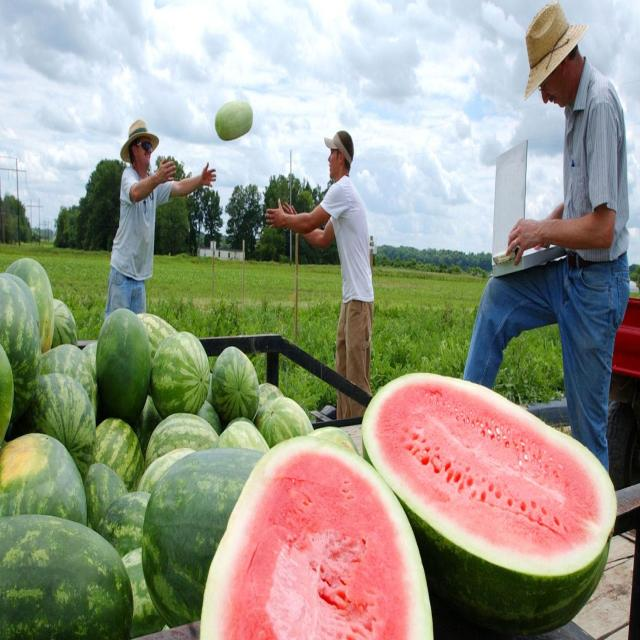Watermelon: (362, 374, 616, 634), (200, 436, 432, 638), (142, 449, 262, 627), (0, 516, 134, 640), (0, 258, 54, 423), (0, 434, 88, 525), (24, 374, 96, 478), (150, 331, 210, 418), (145, 414, 218, 468), (91, 418, 144, 491), (254, 396, 314, 447), (215, 100, 252, 140)
